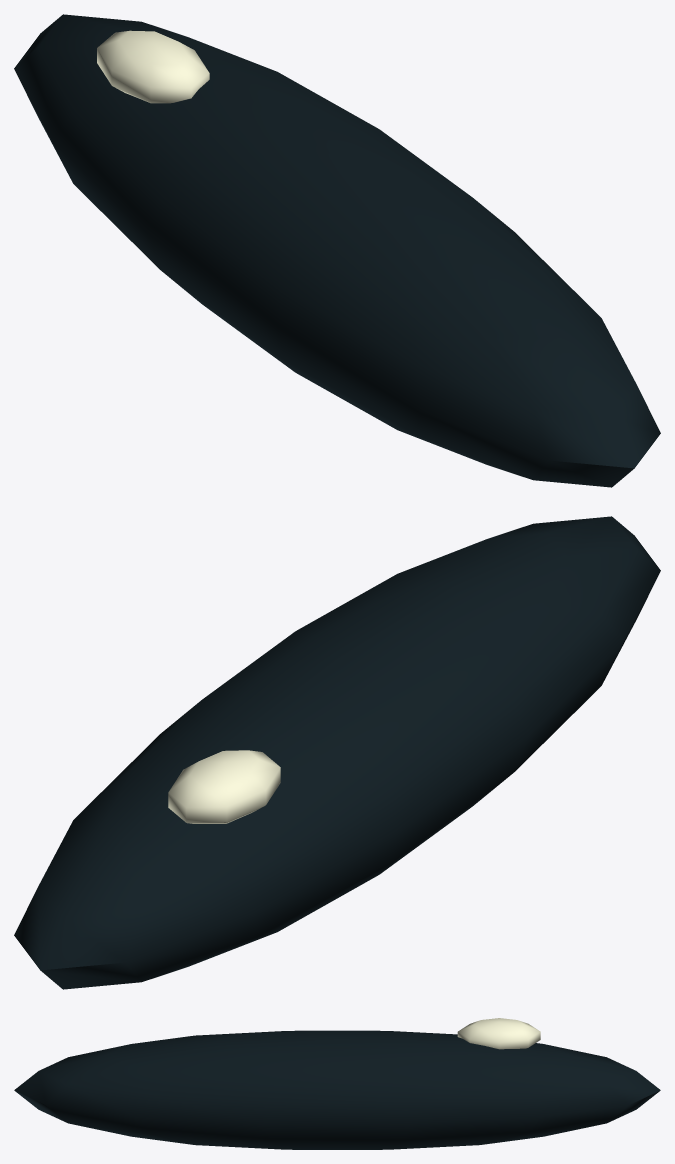
Rendered from eye_slit.glb.
3 views of the same model, one above another, from view 1: azimuth 30°, elevation 25°; view 2: azimuth 150°, elevation 25°; view 3: azimuth 270°, elevation 25° (orthographic). The views are drawn at different scales.
Visible parts, largest first — view 1: eye_slit, eye_slit_glint; view 2: eye_slit, eye_slit_glint; view 3: eye_slit, eye_slit_glint.
Part boxes in pixels (<box>): eye_slit: <box>14,14,660,487</box>; eye_slit_glint: <box>97,30,209,103</box>; eye_slit: <box>14,516,660,989</box>; eye_slit_glint: <box>168,750,280,823</box>; eye_slit: <box>14,1030,660,1149</box>; eye_slit_glint: <box>457,1018,540,1049</box>.
Size of the model in its own units: 0.1267 by 0.097 by 0.52.
